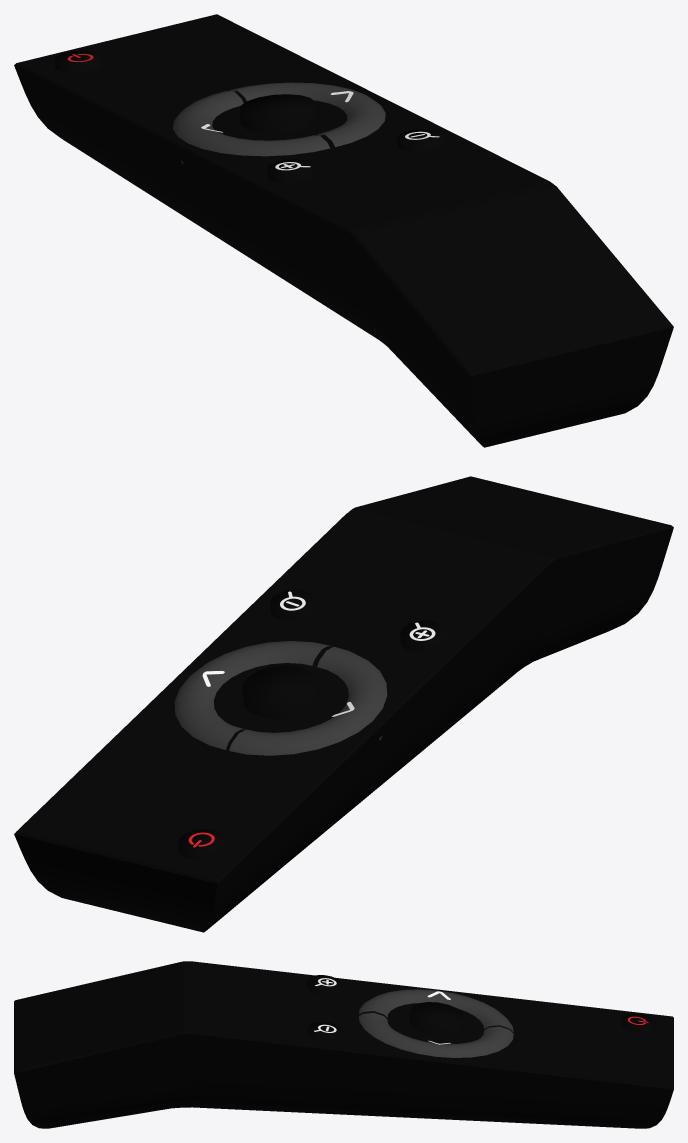
File: Presenter_remote.gltf
3 views of the same model, one above another, from view 1: azimuth 30°, elevation 25°; view 2: azimuth 150°, elevation 25°; view 3: azimuth 270°, elevation 25° (orthographic). The views are drawn at different scales.
Visible parts, largest first — view 1: Cube, Left_button, Right_Button, Laser_Pointer, ZoomIn, Cylinder.009, ZoomOut; view 2: Cube, Left_button, Right_Button, Laser_Pointer, Cylinder.009, ZoomIn, ZoomOut; view 3: Cube, Right_Button, Left_button, Laser_Pointer, ZoomIn, Cylinder.009, ZoomOut.
Boxes of the visible parts, x1,y1,x2,y2 form: Cube: (14, 14, 673, 447); Left_button: (173, 91, 330, 164); Right_Button: (229, 82, 385, 146); Laser_Pointer: (240, 94, 316, 133); ZoomIn: (267, 159, 314, 183); Cylinder.009: (55, 50, 101, 73); ZoomOut: (397, 129, 444, 151); Cube: (14, 476, 673, 932); Left_button: (229, 646, 387, 755); Right_Button: (174, 641, 331, 749); Laser_Pointer: (242, 665, 318, 719); Cylinder.009: (178, 828, 225, 860); ZoomIn: (400, 620, 447, 652); ZoomOut: (270, 589, 316, 621); Cube: (14, 961, 673, 1128); Right_Button: (359, 1012, 513, 1057); Left_button: (359, 989, 513, 1031); Laser_Pointer: (409, 1002, 465, 1036); ZoomIn: (307, 975, 341, 995); Cylinder.009: (621, 1013, 655, 1033); ZoomOut: (307, 1021, 342, 1041).
Size of the model in its own units: 2.38 by 1.75 by 9.22.
Materials: 7 (5 with a texture image).
